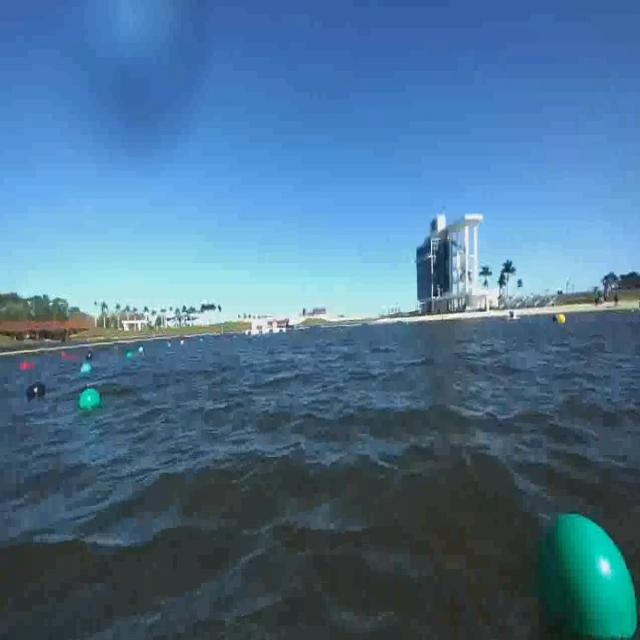black-buoy: (26, 383, 47, 399)
green-buoy: (519, 499, 639, 640), (78, 391, 102, 416)
yellow-buoy: (558, 312, 567, 326)
